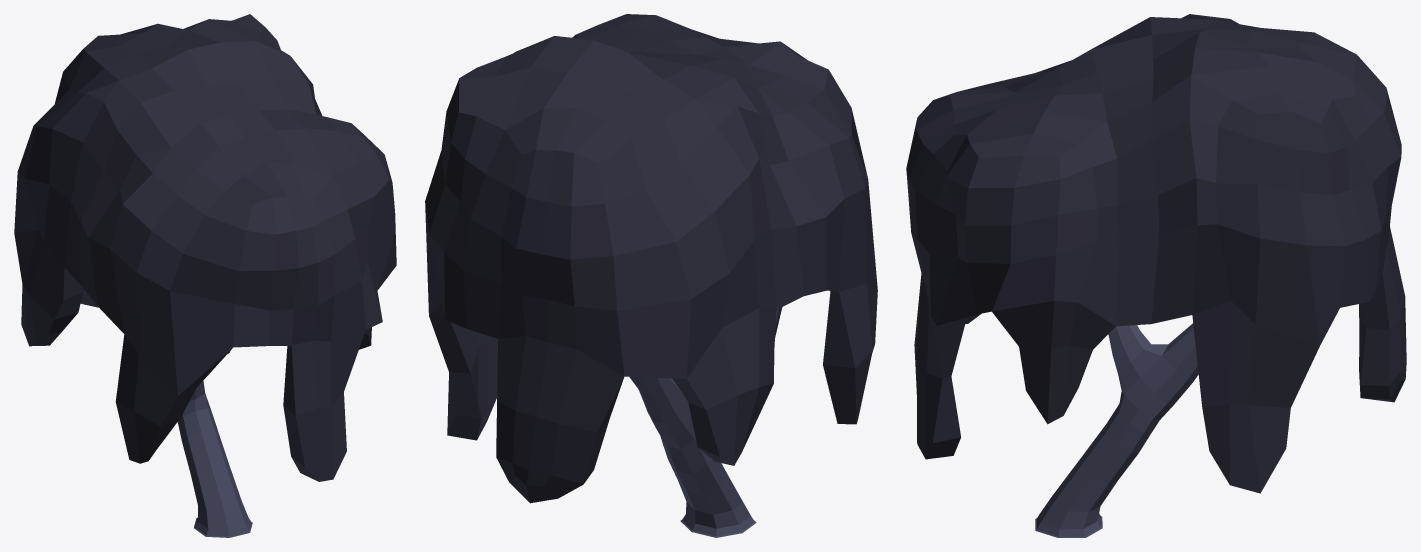
File: Spoky_Tree_1.fbx
3 views of the same model, side by side, from view 1: azimuth 30°, elevation 25°; view 2: azimuth 150°, elevation 25°; view 3: azimuth 270°, elevation 25° (orthographic). The views are drawn at different scales.
Visible parts, largest first — view 1: Spoky_Tree_1; view 2: Spoky_Tree_1; view 3: Spoky_Tree_1.
Boxes of the visible parts, box(x1,y1,x2,y2) form: Spoky_Tree_1: box(14, 14, 396, 537); Spoky_Tree_1: box(425, 14, 877, 537); Spoky_Tree_1: box(906, 14, 1406, 537).
Size of the model in its own units: 15.5 by 24.01 by 21.59.
